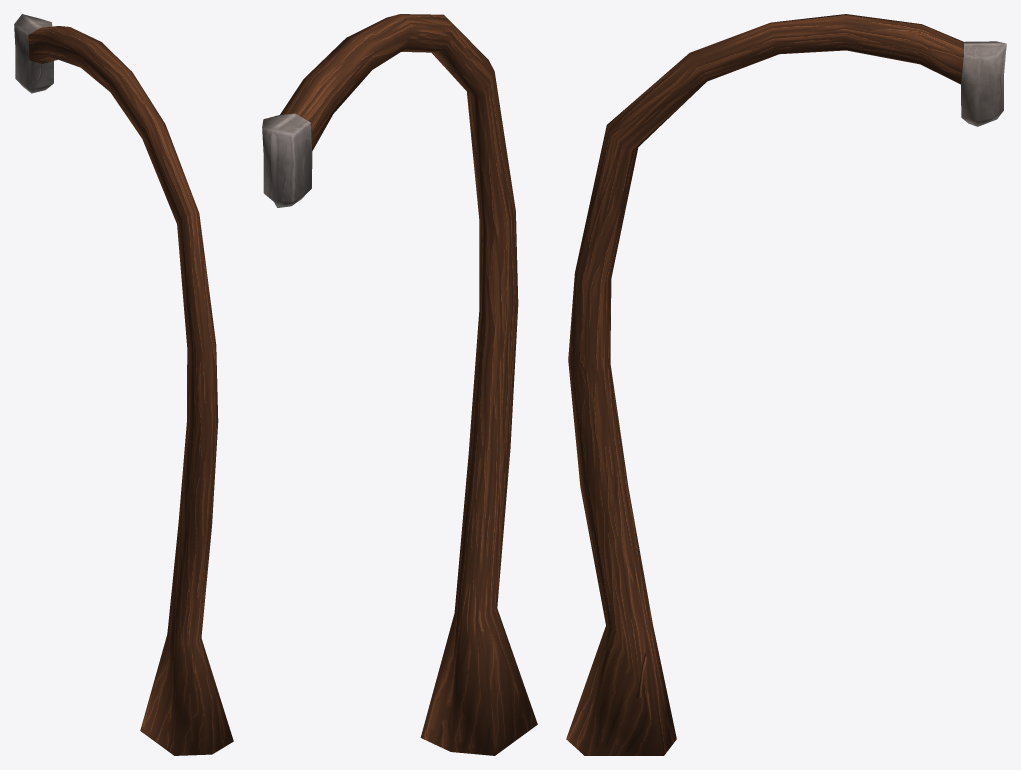
Rendered from Poste.fbx.
3 renders of one model, left to right at view 1: azimuth 30°, elevation 25°; view 2: azimuth 150°, elevation 25°; view 3: azimuth 270°, elevation 25°, orthographic. The views are drawn at different scales.
Visible parts, largest first — view 1: Cube; view 2: Cube; view 3: Cube.
Part boxes in pixels (x1=…): Cube: x1=14, y1=14, x2=233, y2=755; Cube: x1=262, y1=14, x2=537, y2=755; Cube: x1=566, y1=14, x2=1006, y2=755.
Bounding box in the file's own units: 1.7 × 17.13 × 9.46.
